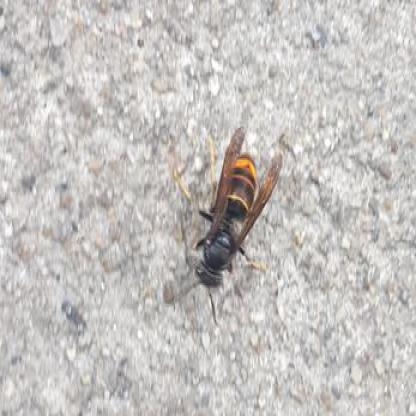Asian Hornet: (188, 122, 284, 321)
